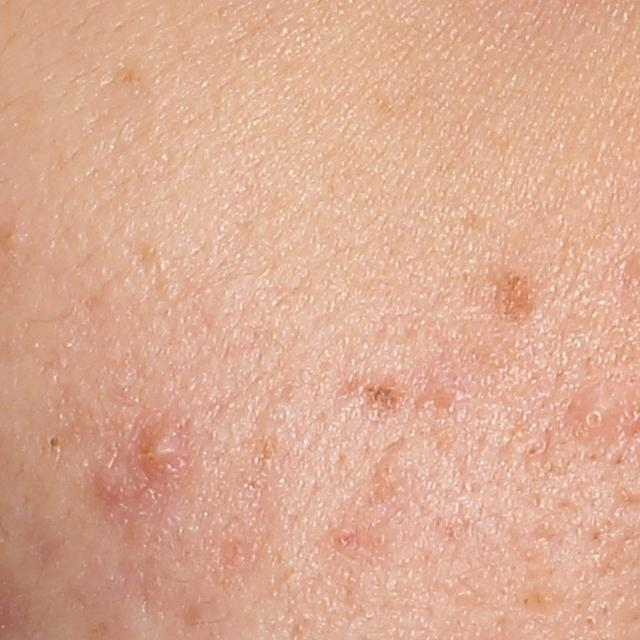comedo: (46, 433, 64, 452)
melasma: (497, 267, 541, 327)
nevus: (358, 367, 407, 417)
